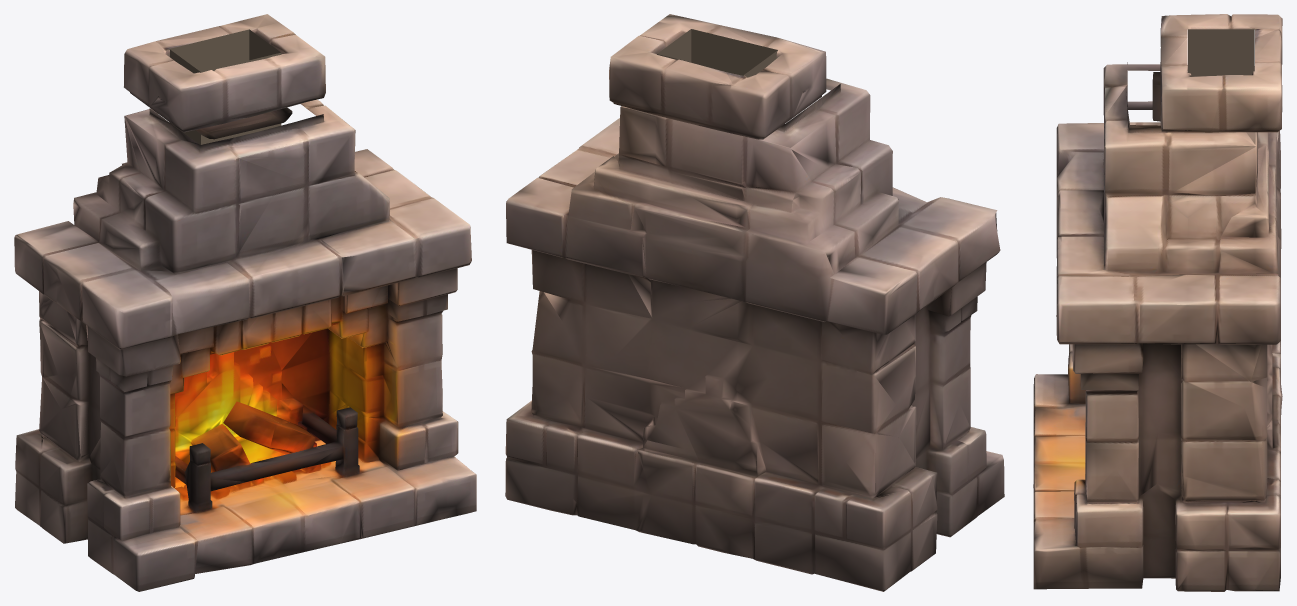
File: kitchen-fireplace.glb
3 views of the same model, side by side, from view 1: azimuth 30°, elevation 25°; view 2: azimuth 150°, elevation 25°; view 3: azimuth 270°, elevation 25° (orthographic). The views are drawn at different scales.
Parts seen in each view (by area): view 1: tripo_node_6332b610-d954-4b39-9acd-9ccbd900e18a, Chimney socket from original fireplace stone, Continuous soot-dark flue lining; view 2: tripo_node_6332b610-d954-4b39-9acd-9ccbd900e18a, Chimney socket from original fireplace stone, Continuous soot-dark flue lining; view 3: tripo_node_6332b610-d954-4b39-9acd-9ccbd900e18a, Chimney socket from original fireplace stone, Continuous soot-dark flue lining.
Part boxes in pixels (x1,y1,x2,y2): tripo_node_6332b610-d954-4b39-9acd-9ccbd900e18a: [14, 99, 476, 591]; Chimney socket from original fireplace stone: [124, 14, 325, 132]; Continuous soot-dark flue lining: [169, 29, 281, 144]; tripo_node_6332b610-d954-4b39-9acd-9ccbd900e18a: [505, 78, 1004, 591]; Chimney socket from original fireplace stone: [609, 14, 826, 139]; Continuous soot-dark flue lining: [657, 29, 777, 77]; tripo_node_6332b610-d954-4b39-9acd-9ccbd900e18a: [1033, 62, 1282, 591]; Chimney socket from original fireplace stone: [1160, 14, 1282, 132]; Continuous soot-dark flue lining: [1188, 29, 1254, 76].
Bounding box in the file's own units: 1.41 × 1.65 × 0.8147.
3 materials, 2 textured.
